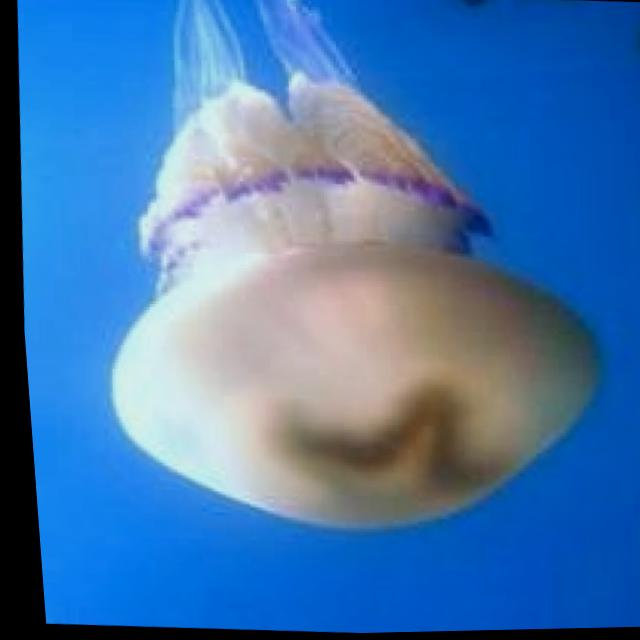Moon-jellyfish: (69, 0, 622, 550)
